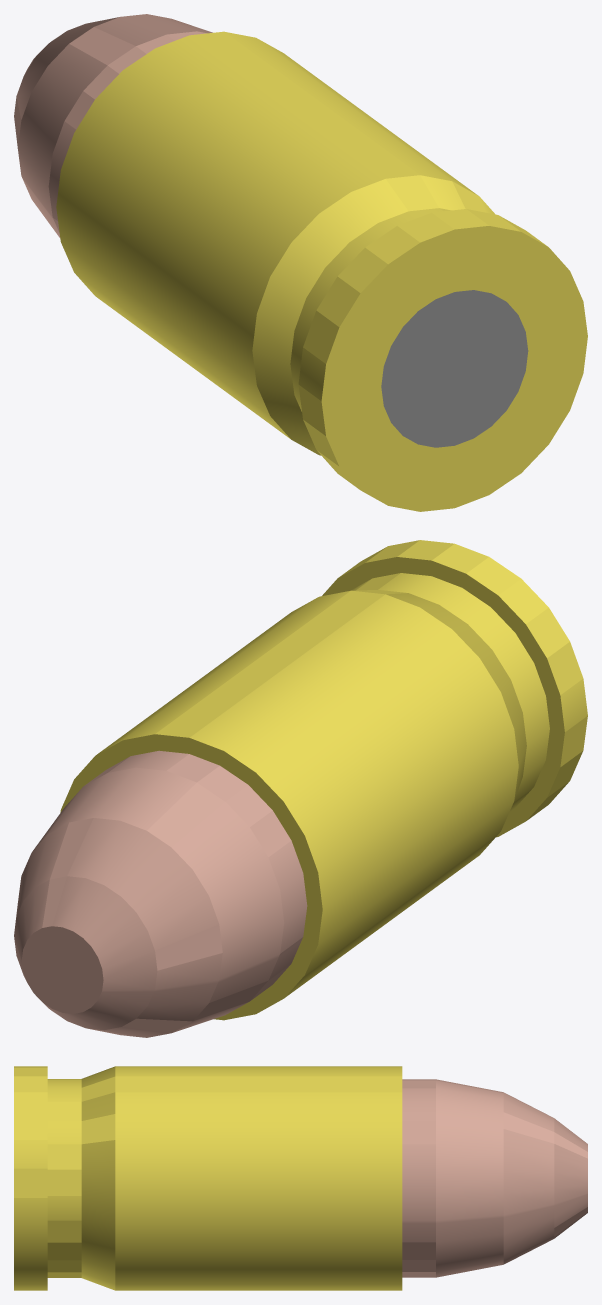
File: ammo_uzi.fbx
3 renders of one model, top to bottom at view 1: azimuth 30°, elevation 25°; view 2: azimuth 150°, elevation 25°; view 3: azimuth 270°, elevation 25°, orthographic. The views are drawn at different scales.
Parts seen in each view (by area): view 1: imagetostl_mesh190, imagetostl_mesh41, imagetostl_mesh40, imagetostl_mesh42, imagetostl_mesh37, imagetostl_mesh43, imagetostl_mesh79, imagetostl_mesh195, imagetostl_mesh44, imagetostl_mesh109, imagetostl_mesh215, imagetostl_mesh45 (+44 smaller); view 2: imagetostl_mesh41, imagetostl_mesh40, imagetostl_mesh42, imagetostl_mesh37, imagetostl_mesh43, imagetostl_mesh79, imagetostl_mesh44, imagetostl_mesh109, imagetostl_mesh261, imagetostl_mesh45, imagetostl_mesh106, imagetostl_mesh334 (+59 smaller); view 3: imagetostl_mesh103, imagetostl_mesh104, imagetostl_mesh102, imagetostl_mesh105, imagetostl_mesh101, imagetostl_mesh106, imagetostl_mesh100, imagetostl_mesh109, imagetostl_mesh99, imagetostl_mesh79, imagetostl_mesh98, imagetostl_mesh280 (+66 smaller).
Boxes of the visible parts, <box> form: imagetostl_mesh190: <box>381,290,528,447</box>; imagetostl_mesh41: <box>74,99,291,276</box>; imagetostl_mesh40: <box>95,70,318,242</box>; imagetostl_mesh42: <box>61,133,269,313</box>; imagetostl_mesh37: <box>123,48,350,213</box>; imagetostl_mesh43: <box>56,170,256,350</box>; imagetostl_mesh79: <box>155,35,385,191</box>; imagetostl_mesh195: <box>326,232,548,363</box>; imagetostl_mesh44: <box>56,207,256,385</box>; imagetostl_mesh109: <box>190,31,419,178</box>; imagetostl_mesh215: <box>339,436,547,490</box>; imagetostl_mesh45: <box>61,242,269,415</box>; imagetostl_mesh41: <box>284,658,500,835</box>; imagetostl_mesh40: <box>256,629,479,801</box>; imagetostl_mesh42: <box>305,692,513,872</box>; imagetostl_mesh37: <box>224,607,451,772</box>; imagetostl_mesh43: <box>318,729,518,909</box>; imagetostl_mesh79: <box>190,594,419,750</box>; imagetostl_mesh44: <box>318,766,518,944</box>; imagetostl_mesh109: <box>155,590,384,737</box>; imagetostl_mesh261: <box>21,926,103,1013</box>; imagetostl_mesh45: <box>305,801,513,974</box>; imagetostl_mesh106: <box>123,590,350,740</box>; imagetostl_mesh334: <box>193,827,268,895</box>; imagetostl_mesh103: <box>115,1168,402,1197</box>; imagetostl_mesh104: <box>115,1140,402,1168</box>; imagetostl_mesh102: <box>115,1198,402,1225</box>; imagetostl_mesh105: <box>115,1114,402,1139</box>; imagetostl_mesh101: <box>115,1226,402,1250</box>; imagetostl_mesh106: <box>115,1092,402,1113</box>; imagetostl_mesh100: <box>115,1251,402,1270</box>; imagetostl_mesh109: <box>115,1076,402,1092</box>; imagetostl_mesh99: <box>115,1270,402,1284</box>; imagetostl_mesh79: <box>115,1067,402,1076</box>; imagetostl_mesh98: <box>115,1284,402,1290</box>; imagetostl_mesh280: <box>436,1169,503,1195</box>.
Bounding box in the file's own units: 0.4001 × 0.4001 × 1.02.
